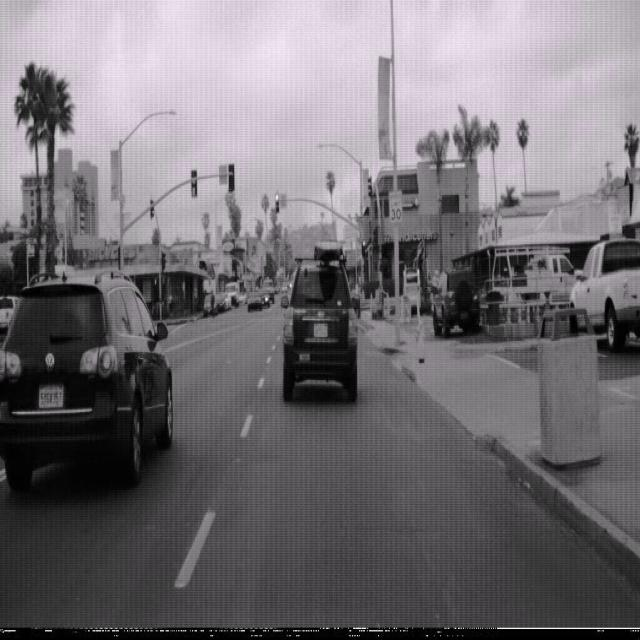speedLimit30: (388, 188, 403, 225)
